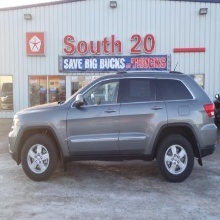no damage: (8, 69, 218, 182)
